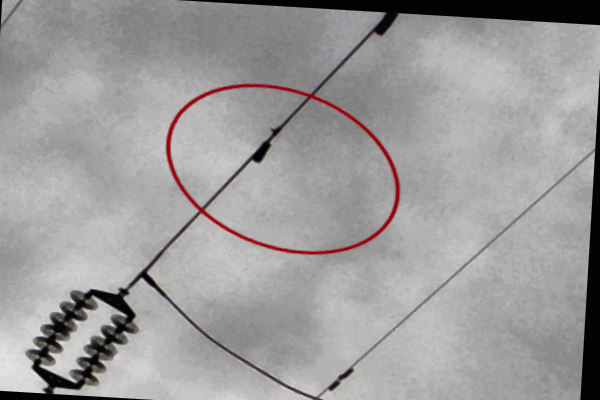damper: (326, 366, 354, 392)
damper_defect: (250, 120, 287, 165)
